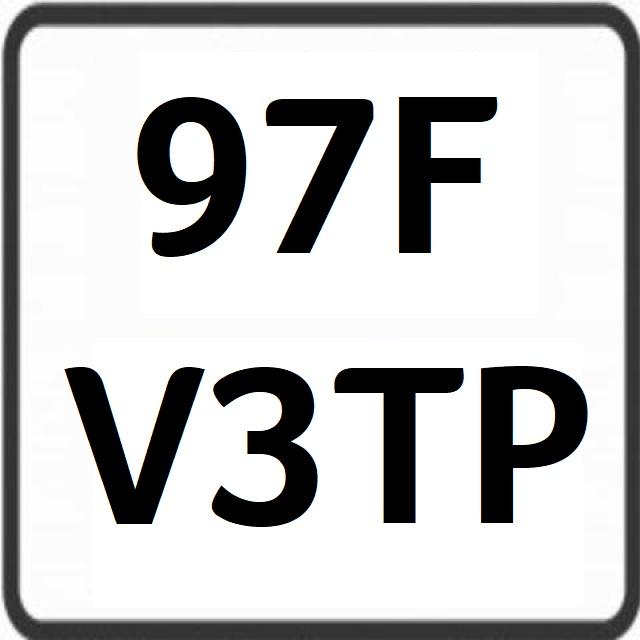3: (211, 346, 324, 540)
9: (132, 78, 256, 274)
F: (389, 76, 502, 268)
P: (470, 351, 595, 541)
T: (338, 338, 460, 537), (267, 74, 376, 274)
V: (64, 341, 208, 547)
